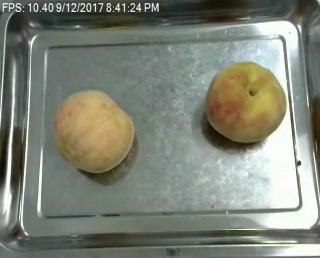Peach: (204, 60, 288, 143), (52, 88, 134, 173)
